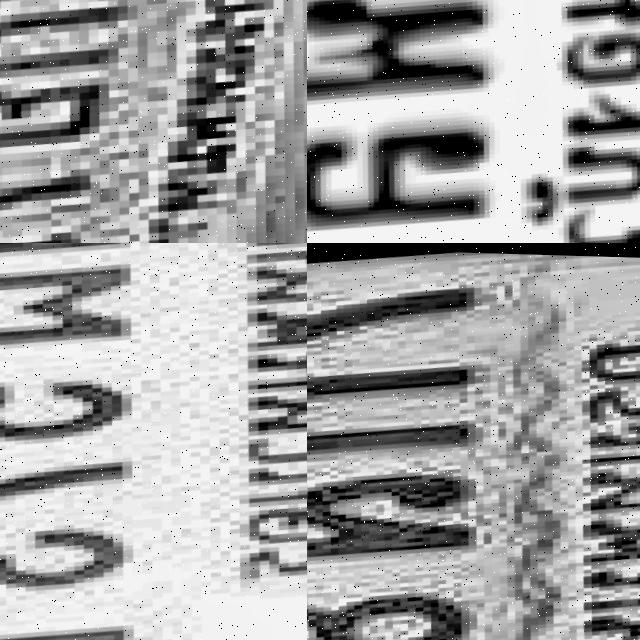license-plate: (307, 243, 640, 640), (0, 243, 307, 640), (307, 0, 640, 243), (0, 0, 307, 243)
